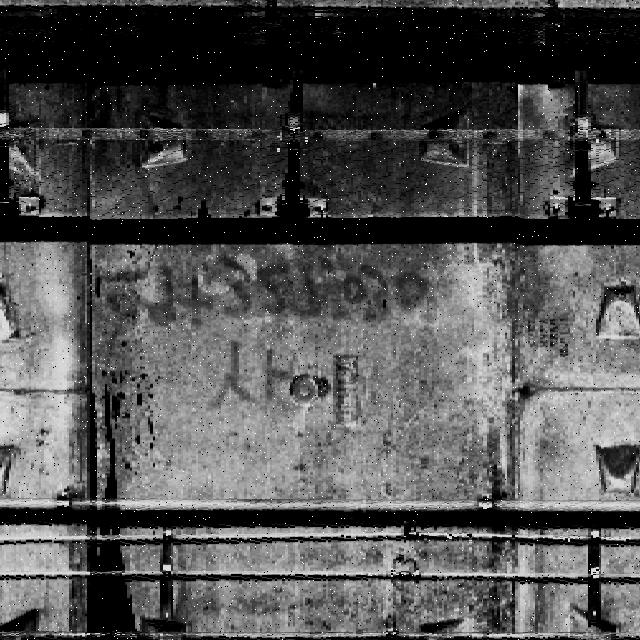leakage: (52, 412, 145, 640)
